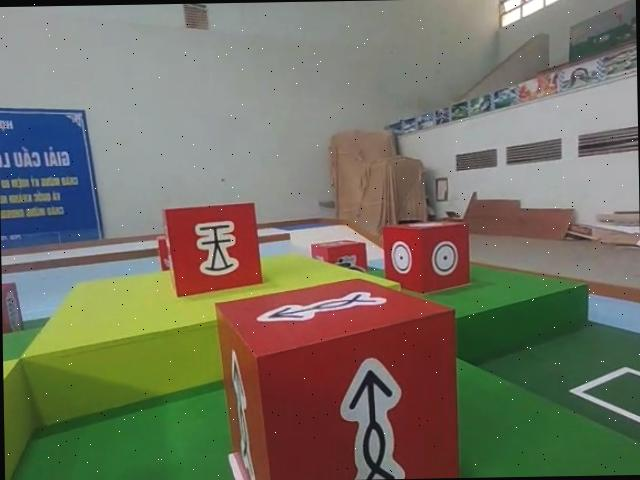R2 Fake: (1, 277, 25, 336)
R2 Real: (213, 273, 459, 480), (161, 200, 262, 295), (383, 219, 470, 292)
